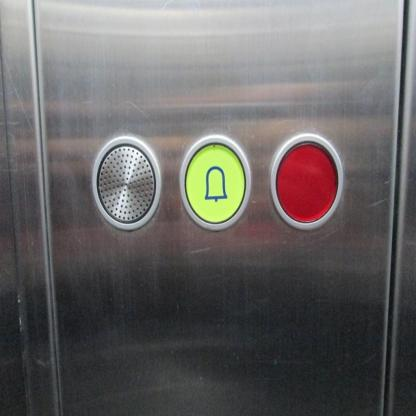alarm: (177, 132, 254, 233)
empty: (268, 129, 345, 231)
speaker: (86, 132, 166, 233)
